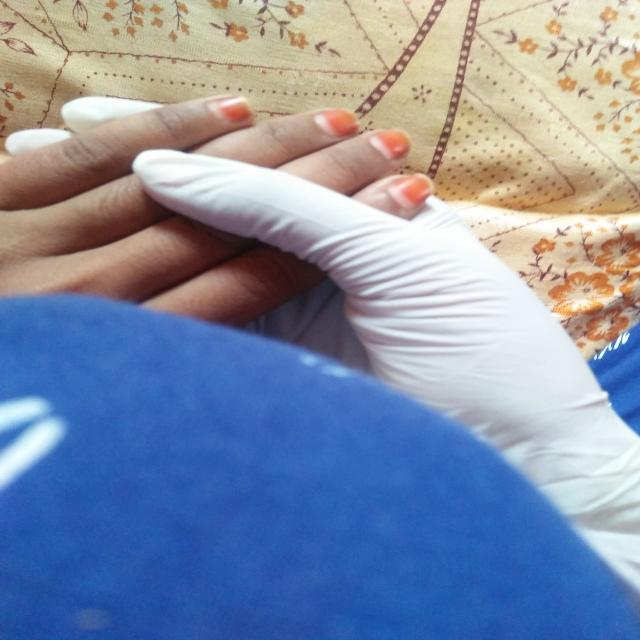glove_hand: (5, 94, 640, 612)
